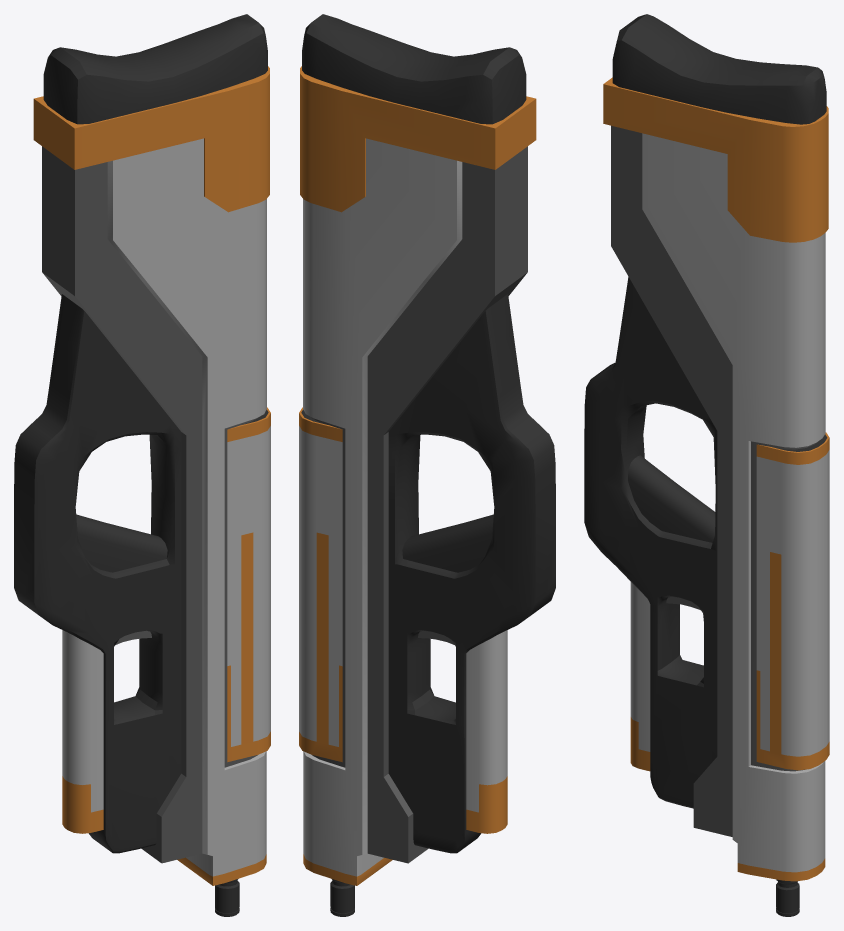
The picture shows the model from 3 angles, left to right: view 1: azimuth 30°, elevation 25°; view 2: azimuth 150°, elevation 25°; view 3: azimuth 330°, elevation 25°; orthographic projection. The views are drawn at different scales.
Visible parts, largest first — view 1: WeaponMesh_qg-ar-6_AR_6; view 2: WeaponMesh_qg-ar-6_AR_6; view 3: WeaponMesh_qg-ar-6_AR_6.
Part boxes in pixels (<box>): WeaponMesh_qg-ar-6_AR_6: <box>14,14,270,916</box>; WeaponMesh_qg-ar-6_AR_6: <box>299,14,555,916</box>; WeaponMesh_qg-ar-6_AR_6: <box>584,14,829,916</box>.
Size of the model in its own units: 0.3502 by 1.25 by 0.1032.
